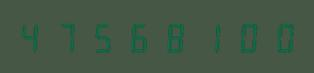eight: (157, 20, 191, 53)
five: (87, 20, 121, 53)
four: (17, 20, 51, 53)
one: (192, 20, 226, 53)
seven: (52, 20, 86, 53)
six: (122, 20, 156, 53)
zero: (227, 20, 261, 53), (262, 20, 296, 53)
